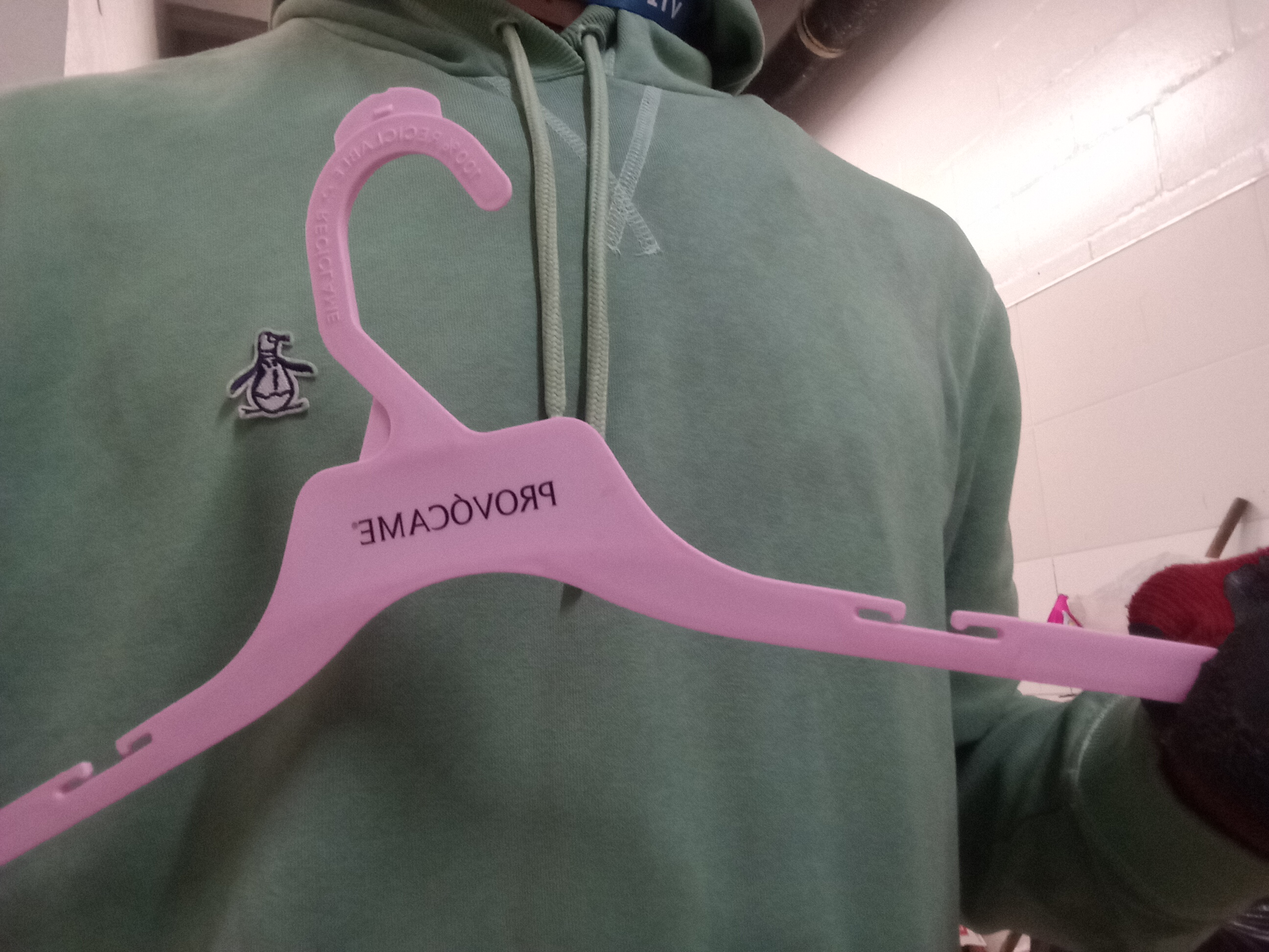Ordinario: (0, 85, 1215, 876)
